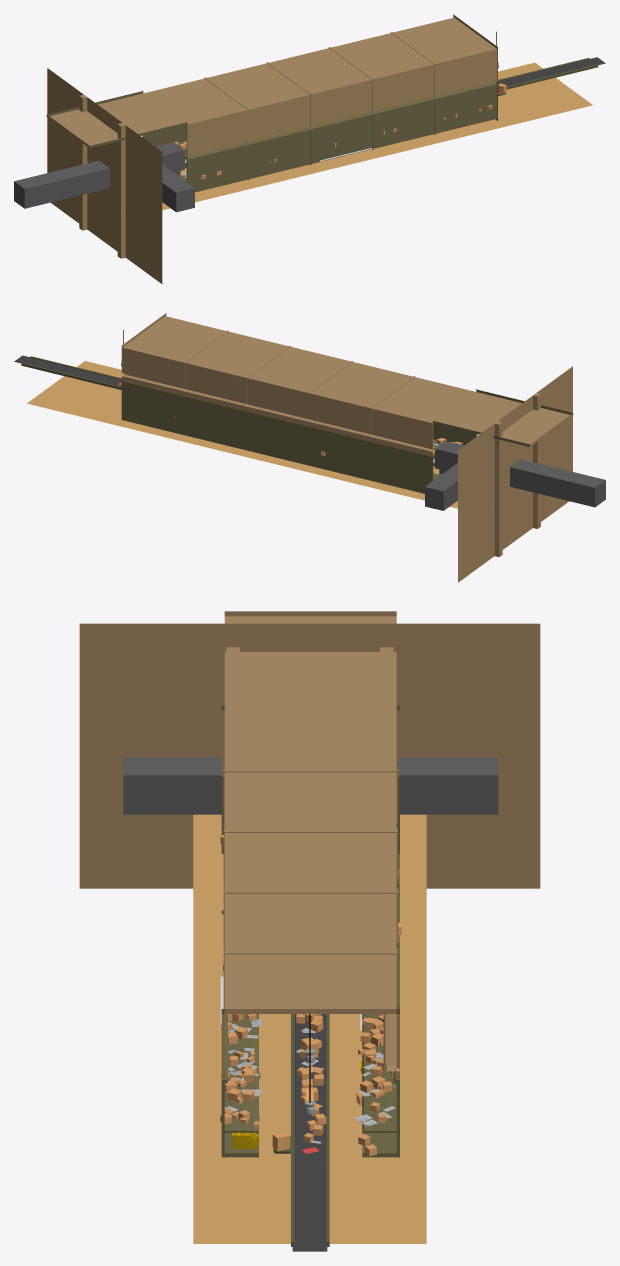
3 views of the same model, one above another, from view 1: azimuth 30°, elevation 25°; view 2: azimuth 150°, elevation 25°; view 3: azimuth 270°, elevation 25° (orthographic). The views are drawn at different scales.
Parts seen in each view (by area): view 1: shelf_left, wall_end, floor, structure_end, rug_moving, bords_tapis; view 2: shelf_left, wall_end, floor, structure_end, rug_moving, bords_tapis; view 3: shelf_left, wall_end, floor, structure_end, rug_moving, plane_box_2, bords_tapis, Plane_box_1.
Part boxes in pixels (left/top/right/bottom): shelf_left: left=46, top=14, right=497, bottom=192; wall_end: left=47, top=68, right=162, bottom=283; floor: left=162, top=62, right=592, bottom=210; structure_end: left=14, top=142, right=194, bottom=212; rug_moving: left=185, top=57, right=605, bottom=164; bords_tapis: left=185, top=58, right=598, bottom=167; shelf_left: left=121, top=313, right=573, bottom=493; wall_end: left=458, top=366, right=572, bottom=582; floor: left=27, top=361, right=457, bottom=508; structure_end: left=425, top=441, right=605, bottom=510; rug_moving: left=14, top=355, right=434, bottom=463; bords_tapis: left=21, top=356, right=434, bottom=466; shelf_left: left=221, top=611, right=399, bottom=1157; wall_end: left=79, top=619, right=540, bottom=888; floor: left=193, top=814, right=426, bottom=1243; structure_end: left=123, top=757, right=498, bottom=814; rug_moving: left=292, top=1014, right=327, bottom=1251; plane_box_2: left=220, top=834, right=401, bottom=1124; bords_tapis: left=273, top=1014, right=329, bottom=1246; Plane_box_1: left=221, top=909, right=398, bottom=1128.
Bounding box in the file's own units: 31.99 × 6.96 × 10.96.
16 materials, 1 textured.
